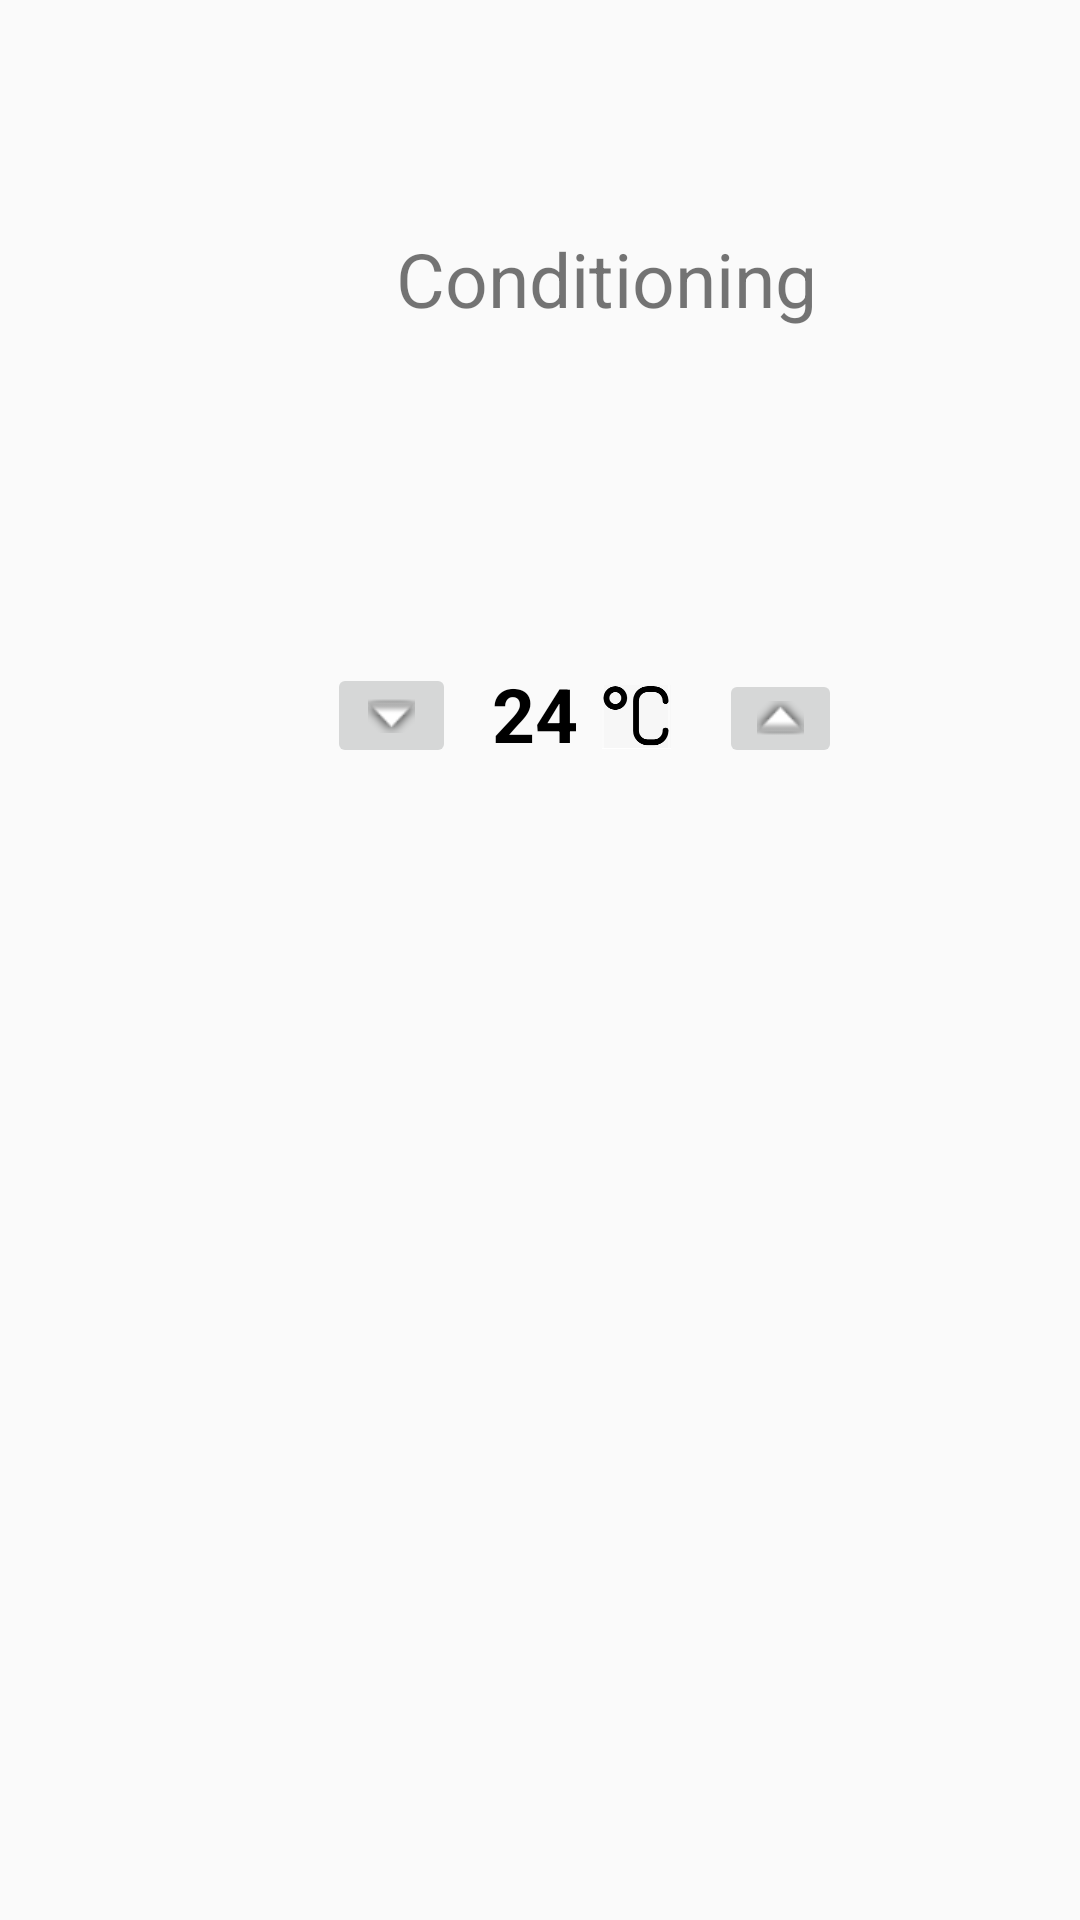

Named icons in this screenshot (1080 x 1920) and their bounding boxes, (x1, y1, x2, y2):
arrow down float: (339, 681, 444, 750)
arrow up float: (731, 687, 830, 750)
